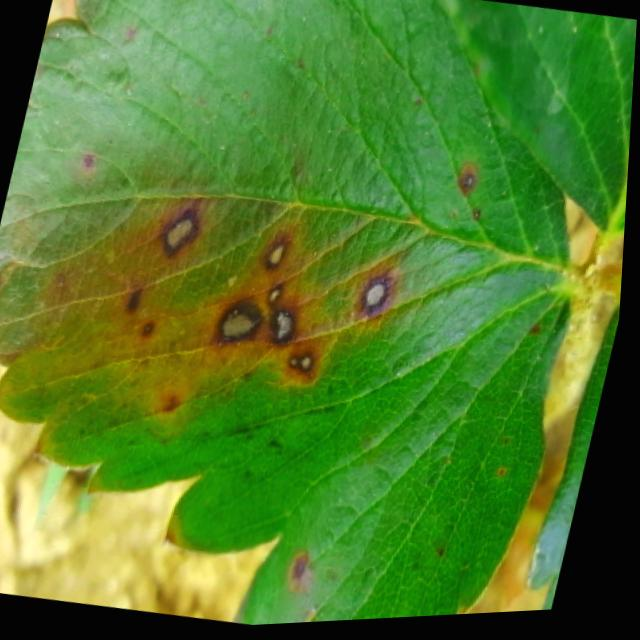Leaf Spot: (0, 0, 590, 628)
